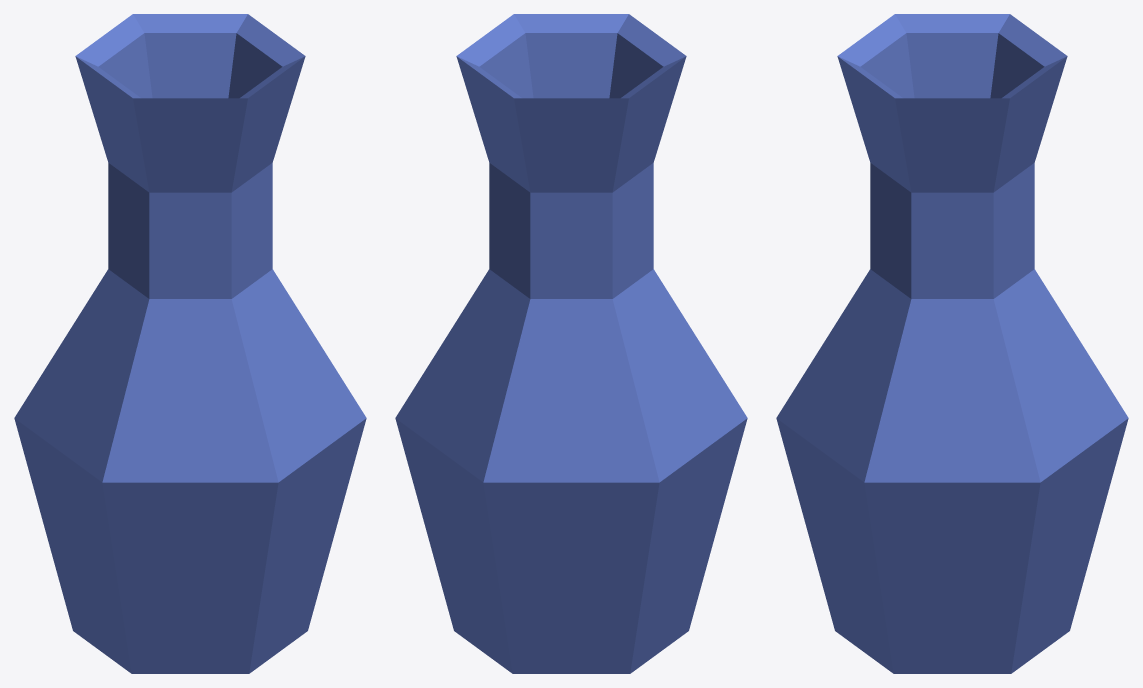
The model's file is Vase2.fbx.
3 views of the same model, side by side, from view 1: azimuth 30°, elevation 25°; view 2: azimuth 150°, elevation 25°; view 3: azimuth 270°, elevation 25° (orthographic).
Visible parts, largest first — view 1: Cylinder; view 2: Cylinder; view 3: Cylinder.
Boxes of the visible parts, box(x1,y1,x2,y2) form: Cylinder: box(14, 14, 366, 673); Cylinder: box(395, 14, 747, 673); Cylinder: box(776, 14, 1128, 673).
Size of the model in its own units: 0.2858 by 0.594 by 0.33.
